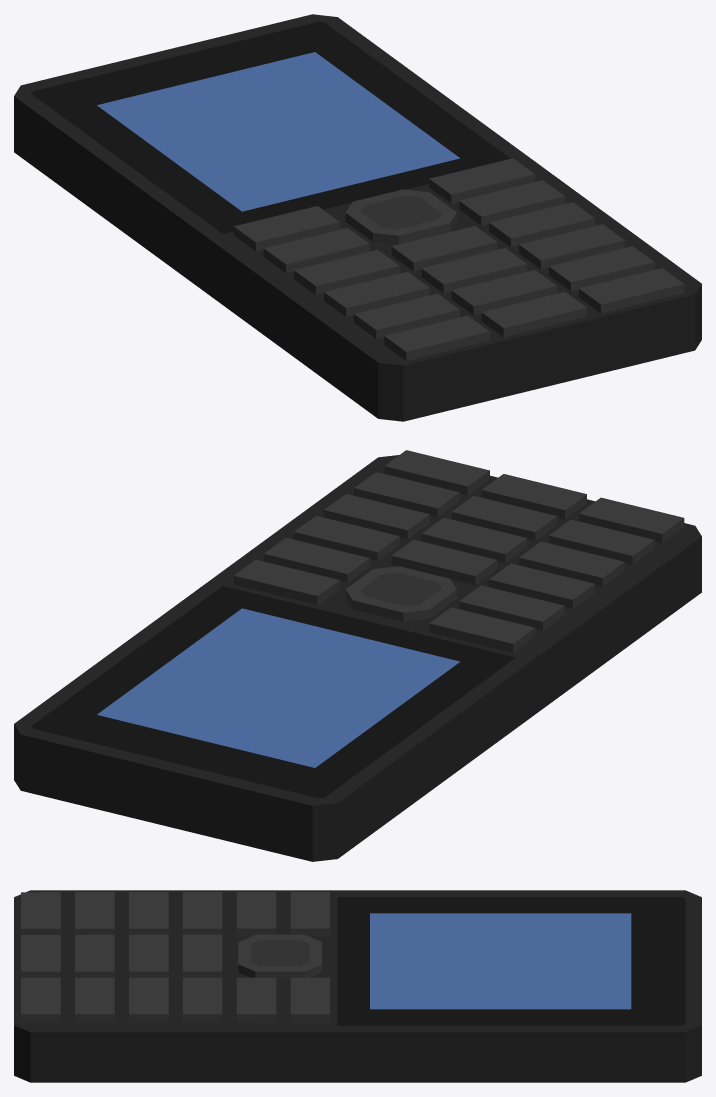
File: phone.fbx
The picture shows the model from 3 angles, top to bottom: view 1: azimuth 30°, elevation 25°; view 2: azimuth 150°, elevation 25°; view 3: azimuth 270°, elevation 25°; orthographic projection. The views are drawn at different scales.
Parts seen in each view (by area): view 1: Plane; view 2: Plane; view 3: Plane.
Boxes of the visible parts, x1,y1,x2,y2 form: Plane: (14, 14, 701, 421); Plane: (14, 450, 701, 861); Plane: (14, 890, 701, 1082).
Size of the model in its own units: 6.68 by 1.28 by 13.68.
